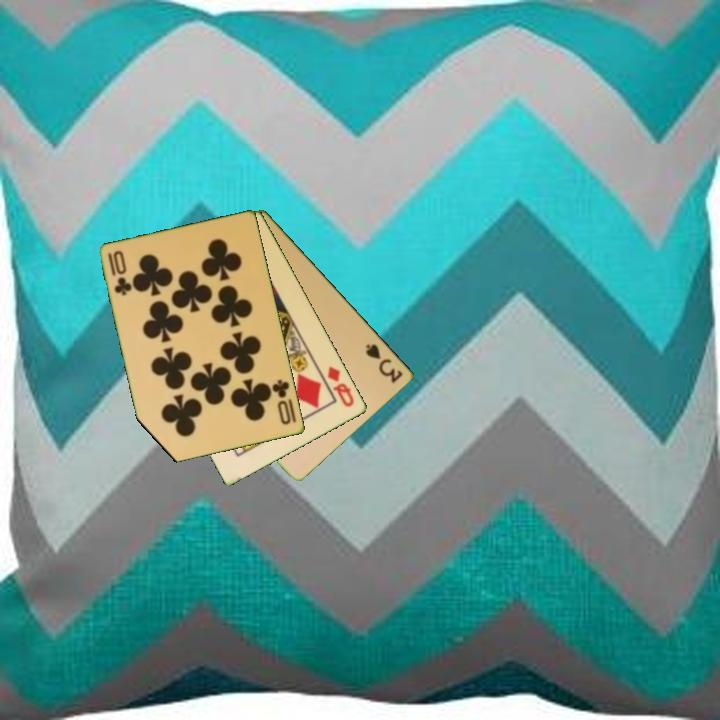10c: (105, 247, 134, 299), (269, 376, 294, 428)
3s: (362, 340, 406, 386)
Qd: (324, 363, 357, 410)
